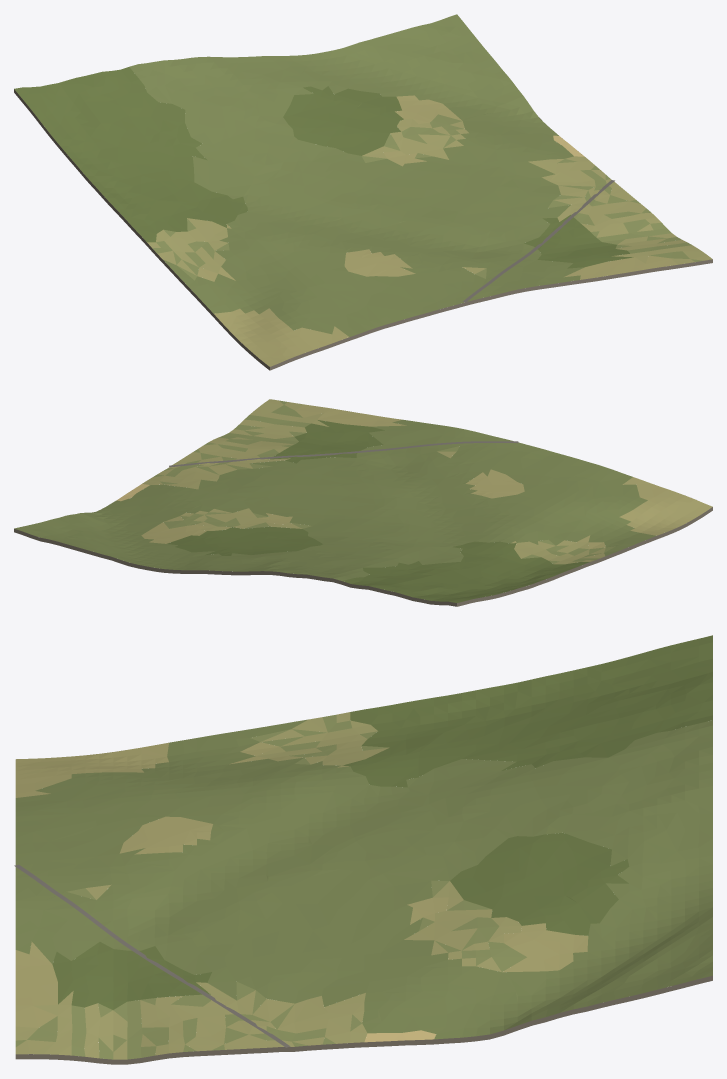
Rendered from parca_+6_-9-uzak.glb.
3 views of the same model, one above another, from view 1: azimuth 30°, elevation 25°; view 2: azimuth 150°, elevation 25°; view 3: azimuth 270°, elevation 25° (orthographic). The views are drawn at different scales.
Parts seen in each view (by area): view 1: parca_+6_-9_arazi_uzak, parca_+6_-9_yollar_uzak; view 2: parca_+6_-9_arazi_uzak, parca_+6_-9_yollar_uzak; view 3: parca_+6_-9_arazi_uzak, parca_+6_-9_yollar_uzak.
Boxes of the visible parts, x1=… form: parca_+6_-9_arazi_uzak: x1=14, y1=14, x2=712, y2=370; parca_+6_-9_yollar_uzak: x1=462, y1=180, x2=614, y2=302; parca_+6_-9_arazi_uzak: x1=14, y1=399, x2=712, y2=606; parca_+6_-9_yollar_uzak: x1=169, y1=441, x2=518, y2=467; parca_+6_-9_arazi_uzak: x1=15, y1=635, x2=712, y2=1064; parca_+6_-9_yollar_uzak: x1=14, y1=864, x2=290, y2=1047.
Size of the model in its own units: 1004 by 213 by 1003.
